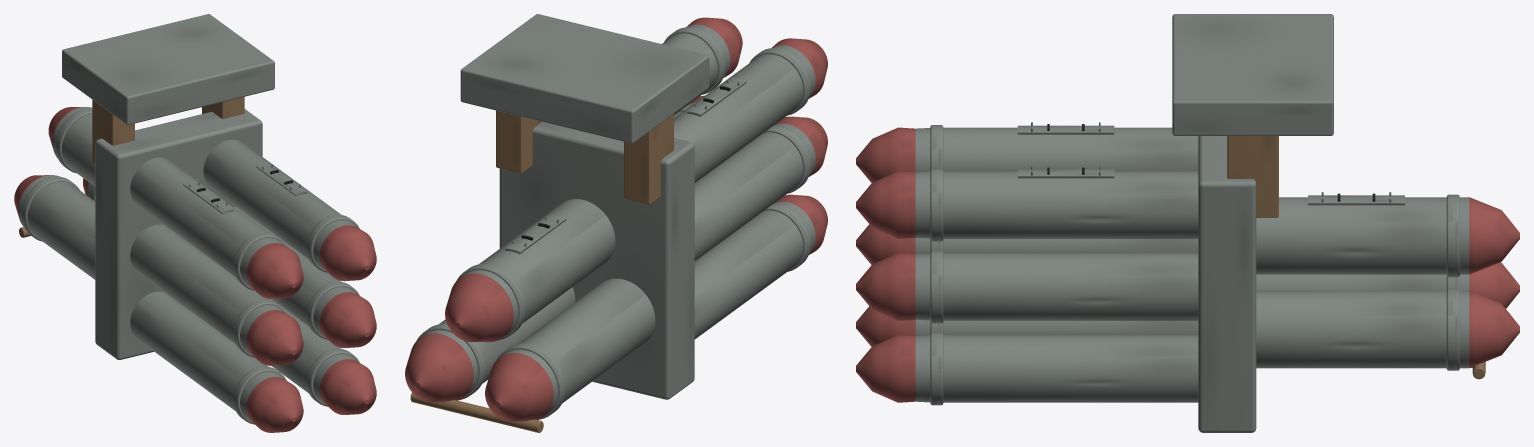
3 views of the same model, side by side, from view 1: azimuth 30°, elevation 25°; view 2: azimuth 150°, elevation 25°; view 3: azimuth 270°, elevation 25° (orthographic). The views are drawn at different scales.
Visible parts, largest first — view 1: Chaos bracket top, Chaos central support, Chaos cylinder 2, Chaos cylinder 0, Chaos cylinder 4, Chaos cylinder 5, Chaos cylinder 6, Chaos red end 2, Chaos red end 4, Chaos red end 5, Chaos red end 0, Chaos red end 1 (+16 smaller); view 2: Chaos central support, Chaos bracket top, Chaos cylinder 6, Chaos cylinder 4, Chaos cylinder 2, Chaos cylinder 0, Chaos cylinder 8, Chaos red end 8, Chaos red end 6, Chaos red end 7, Chaos bracket upright -1, Chaos cylinder 7 (+16 smaller); view 3: Chaos bracket top, Chaos cylinder 3, Chaos cylinder 1, Chaos cylinder 5, Chaos central support, Chaos cylinder 7, Chaos cylinder 8, Chaos cylinder 4, Chaos cylinder 0, Chaos cylinder 2, Chaos cylinder 6, Chaos bracket upright 1 (+17 smaller).
Boxes of the visible parts, left/top/right/bottom form: Chaos bracket top: left=62, top=14, right=274, bottom=124; Chaos central support: left=95, top=109, right=262, bottom=359; Chaos cylinder 2: left=130, top=224, right=284, bottom=355; Chaos cylinder 0: left=130, top=291, right=284, bottom=422; Chaos cylinder 4: left=130, top=157, right=284, bottom=288; Chaos cylinder 5: left=203, top=139, right=357, bottom=270; Chaos cylinder 6: left=18, top=175, right=95, bottom=279; Chaos red end 2: left=246, top=310, right=303, bottom=365; Chaos red end 4: left=246, top=243, right=303, bottom=298; Chaos red end 5: left=319, top=225, right=376, bottom=281; Chaos red end 0: left=246, top=377, right=303, bottom=432; Chaos red end 1: left=319, top=359, right=376, bottom=414; Chaos central support: left=499, top=122, right=694, bottom=399; Chaos bracket top: left=460, top=14, right=709, bottom=143; Chaos cylinder 6: left=501, top=278, right=655, bottom=414; Chaos cylinder 4: left=674, top=45, right=815, bottom=182; Chaos cylinder 2: left=694, top=123, right=815, bottom=260; Chaos cylinder 0: left=694, top=201, right=815, bottom=339; Chaos cylinder 8: left=462, top=199, right=615, bottom=335; Chaos red end 8: left=445, top=273, right=513, bottom=342; Chaos red end 6: left=485, top=353, right=553, bottom=421; Chaos red end 7: left=405, top=333, right=473, bottom=401; Chaos bracket upright -1: left=624, top=114, right=673, bottom=204; Chaos cylinder 7: left=422, top=287, right=575, bottom=396; Chaos bracket top: left=1172, top=14, right=1333, bottom=135; Chaos cylinder 3: left=915, top=253, right=1198, bottom=320; Chaos cylinder 1: left=915, top=335, right=1198, bottom=402; Chaos cylinder 5: left=915, top=171, right=1198, bottom=238; Chaos central support: left=1198, top=136, right=1256, bottom=432; Chaos cylinder 7: left=1256, top=290, right=1469, bottom=368; Chaos cylinder 8: left=1256, top=197, right=1469, bottom=274; Chaos cylinder 4: left=915, top=127, right=1198, bottom=172; Chaos cylinder 0: left=915, top=320, right=1198, bottom=335; Chaos cylinder 2: left=915, top=238, right=1198, bottom=253; Chaos cylinder 6: left=1256, top=274, right=1469, bottom=290; Chaos bracket upright 1: left=1227, top=136, right=1278, bottom=217.
Size of the model in its own units: 0.65 by 1.14 by 2.06.
5 materials, 3 textured.
